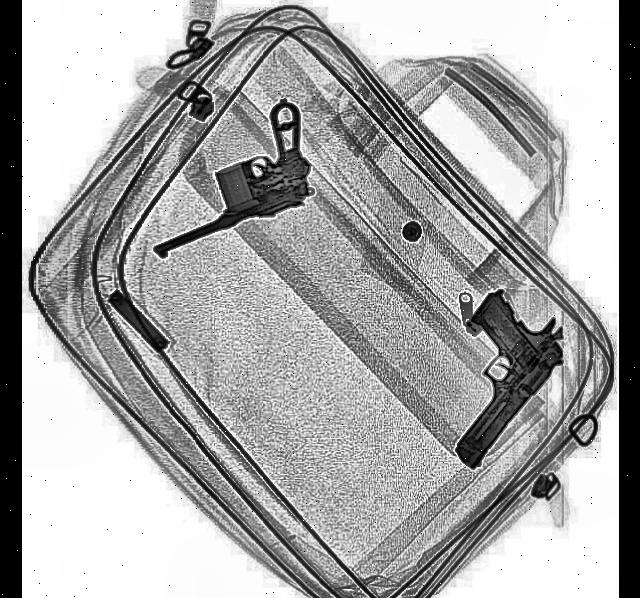Gun: (407, 273, 576, 479), (126, 100, 320, 260)
